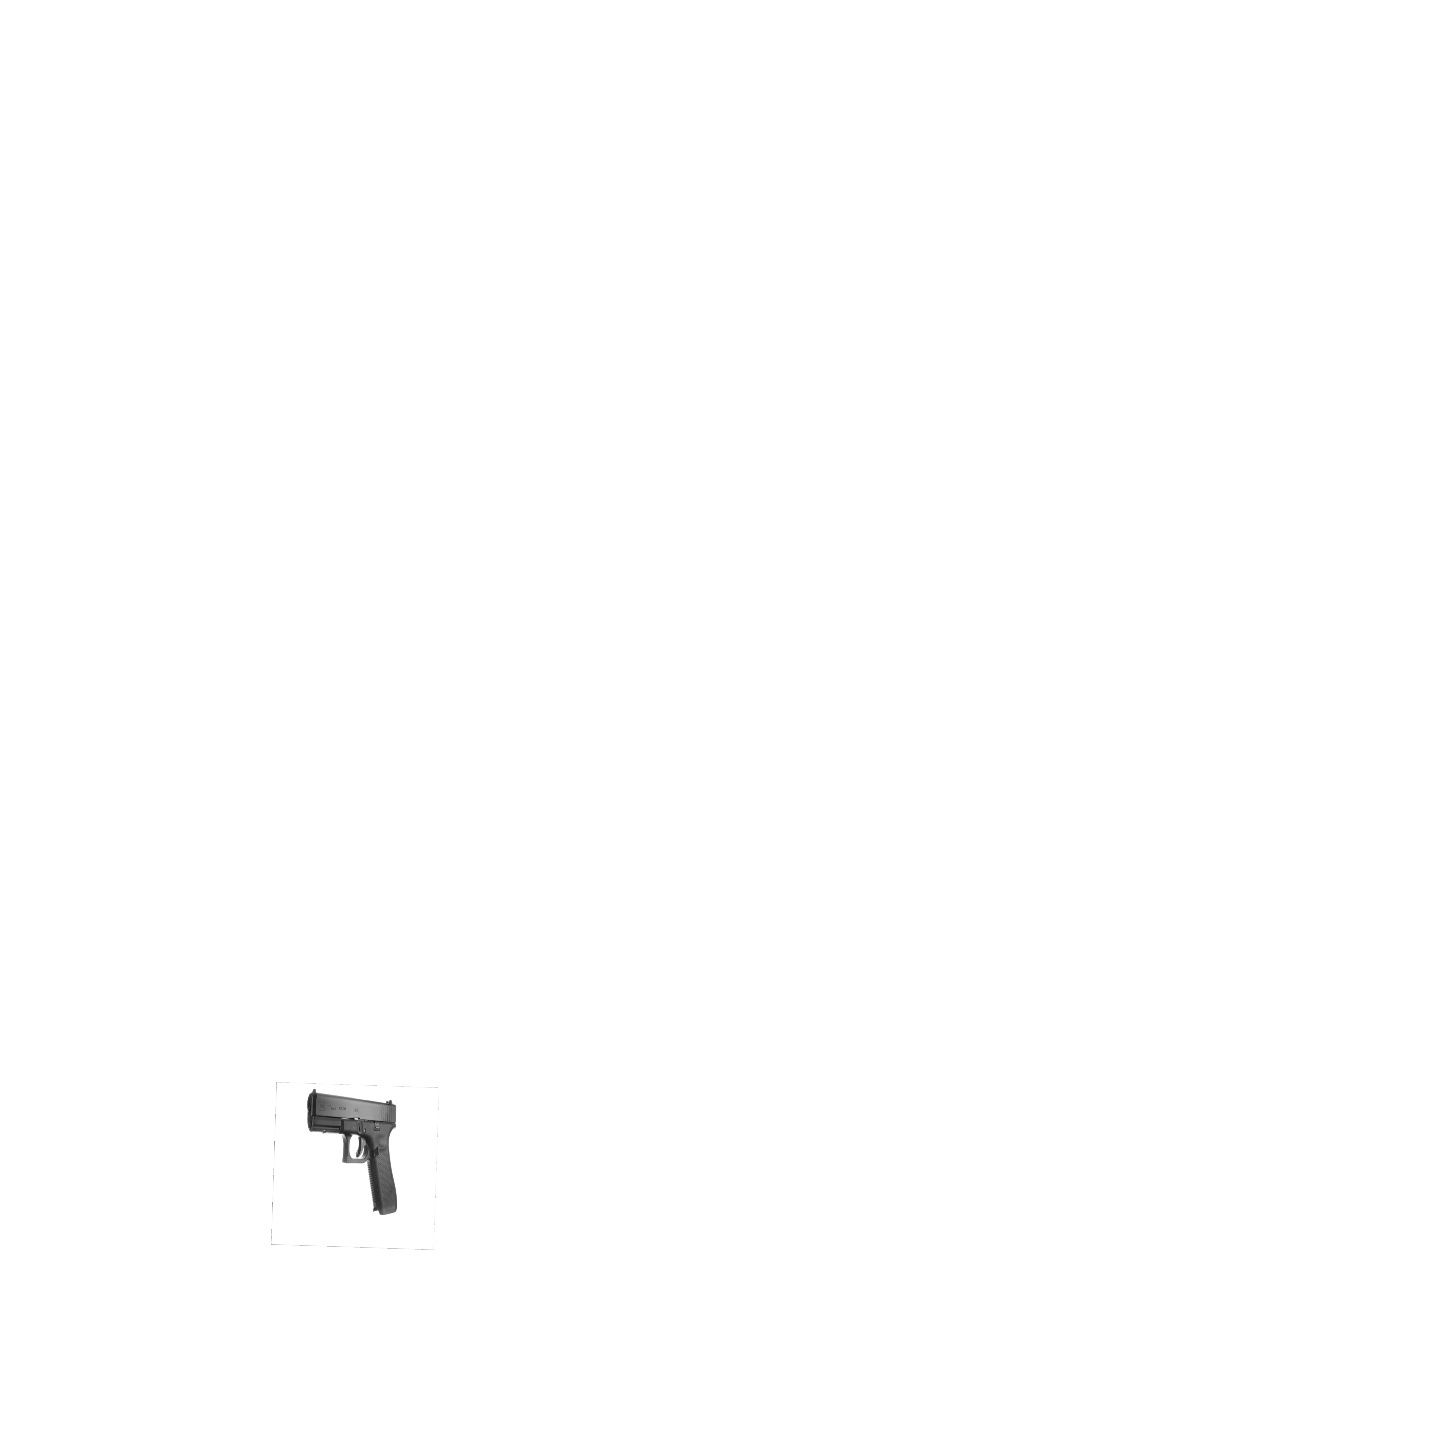gun: (299, 1082, 420, 1221)
